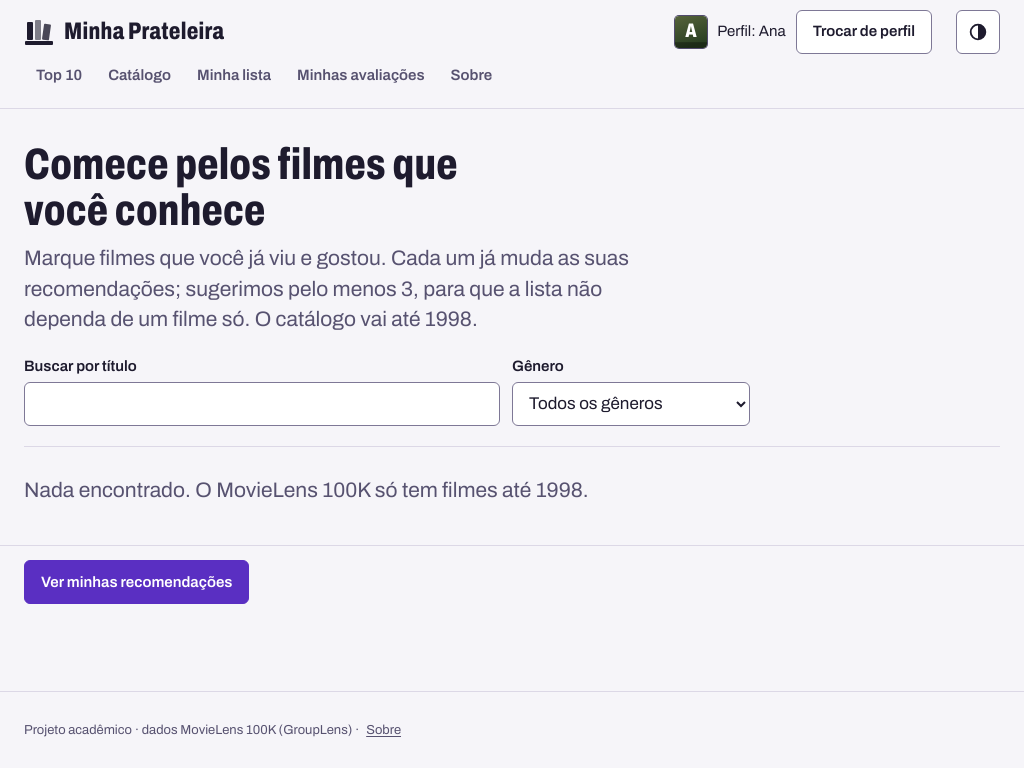
erro preso ao perfil e conclusão única › botão da tela e menu juntos: um PATCH só
The width and height of the screenshot is (1024, 768).
Check: the text "Perfil: Ana" is shown, box [717,20,786,44]
Click the button "Ver minhas recomendações".
click(137, 582)  # box [24,560,249,604]
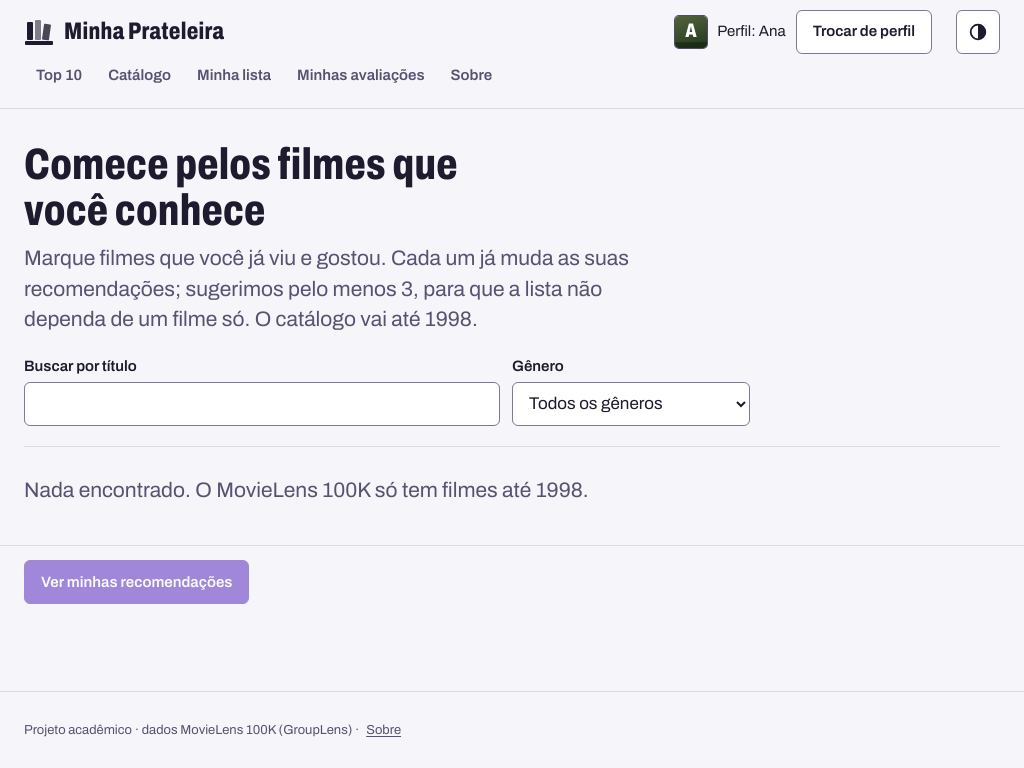
Click the link "Top 10".
click(59, 75)  # box [36,67,82,83]
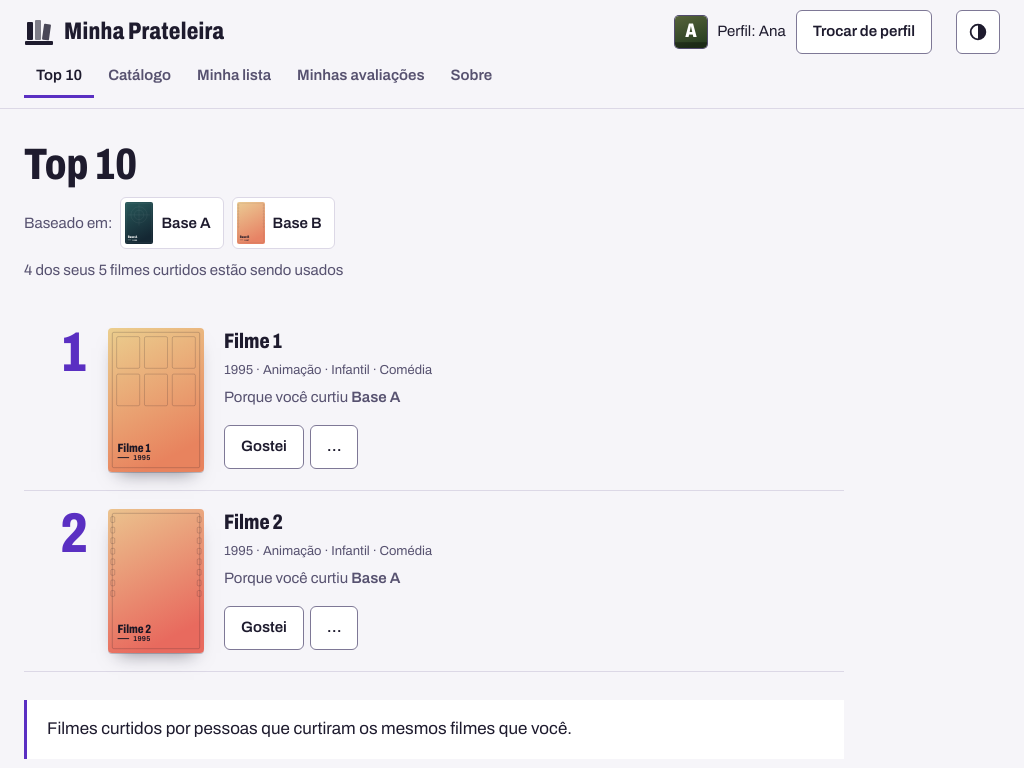
Check: the heading "Top 10" is shown, box [24,140,137,188]
